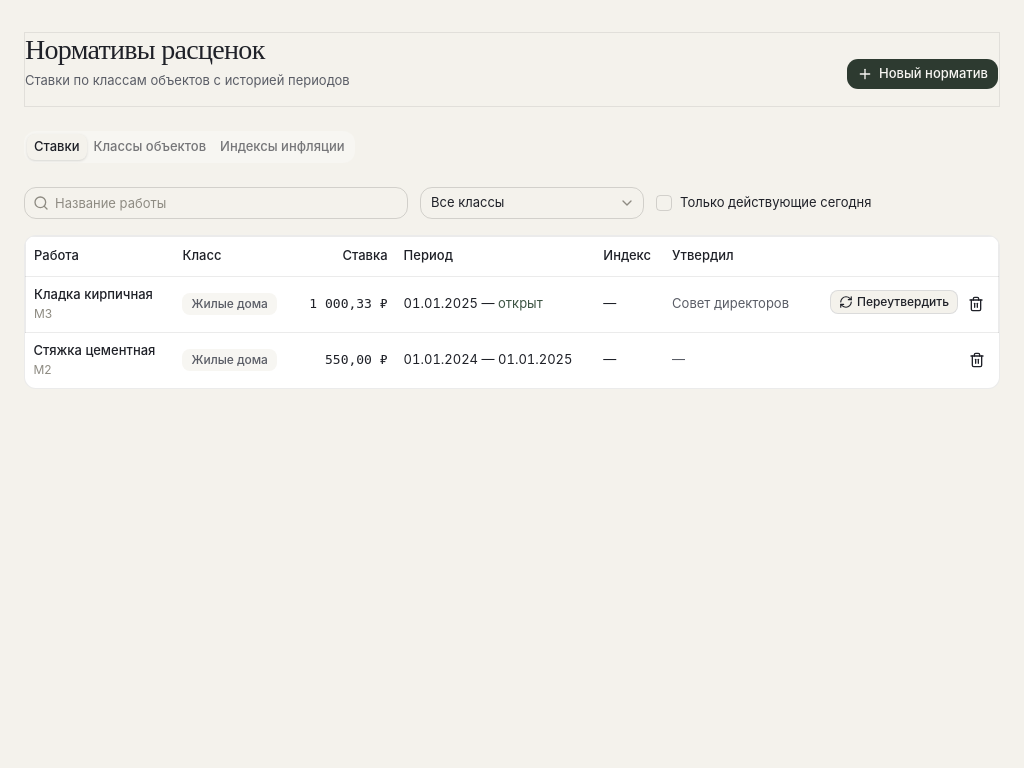
Test: Диалог переутверждения (§4) › переутверждает и сообщает, каким числом закрыт прежний период
The image size is (1024, 768).
Expected: the text "Кладка кирпичная" is shown, [34,285,166,304]
Click the button "Переутвердить".
click(894, 302)  # box [830,290,958,314]
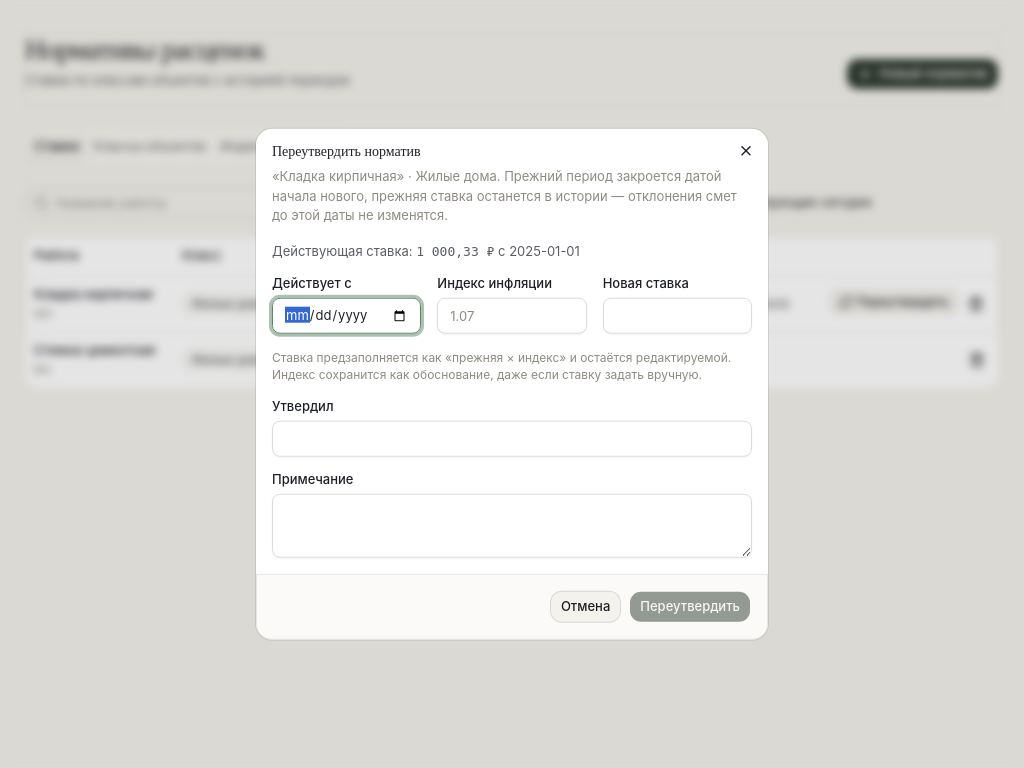
Type "2026-01-01" into the date field labelled "Действует с".
click(347, 316); type("2026-01-01")  # box [272,298,421,334]
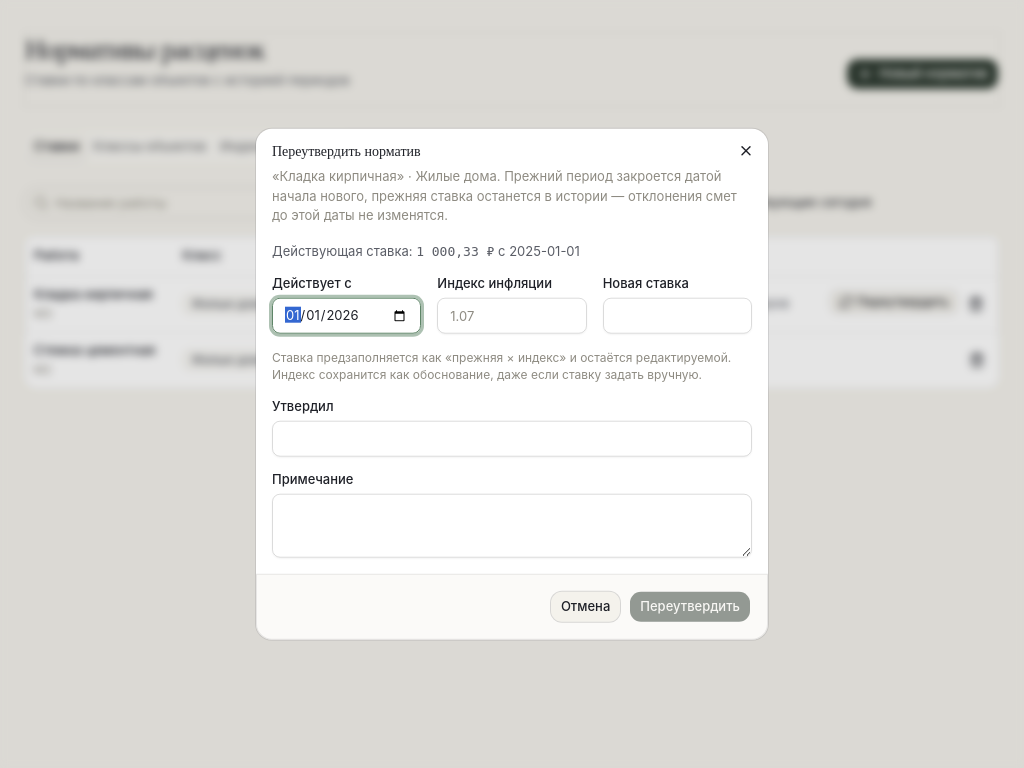
Type "1.075" into the field labelled "Индекс инфляции".
click(512, 316); type("1.075")  # box [437,298,587,334]
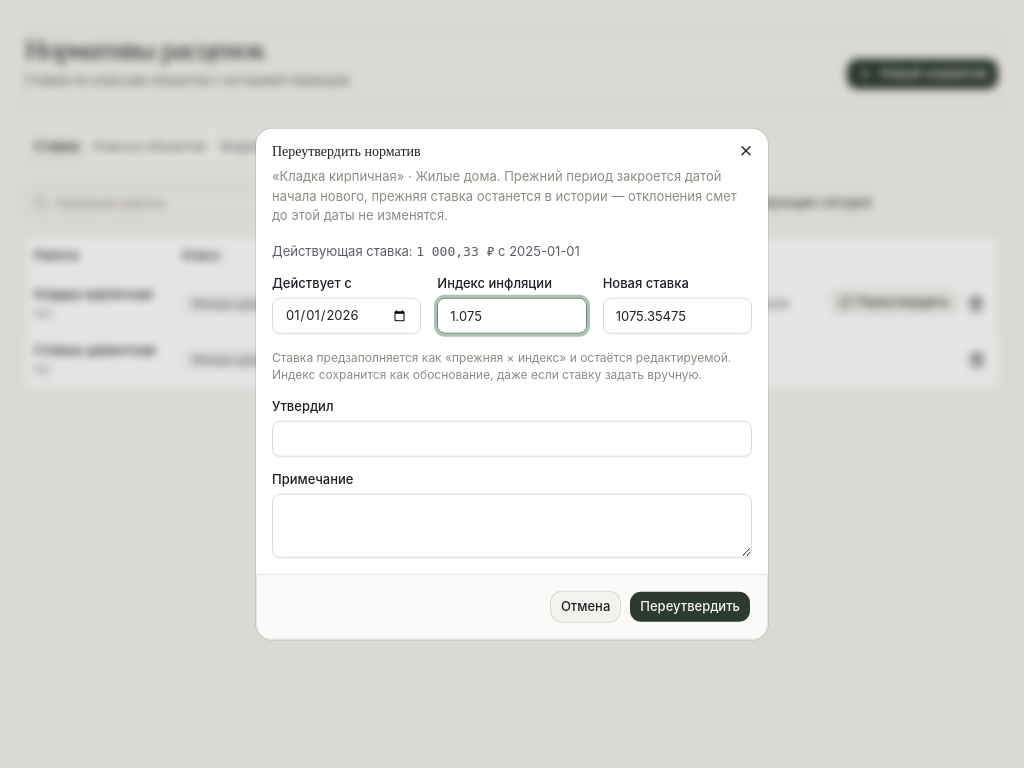
Click the button "Переутвердить".
click(690, 606)  # box [629,590,751,622]
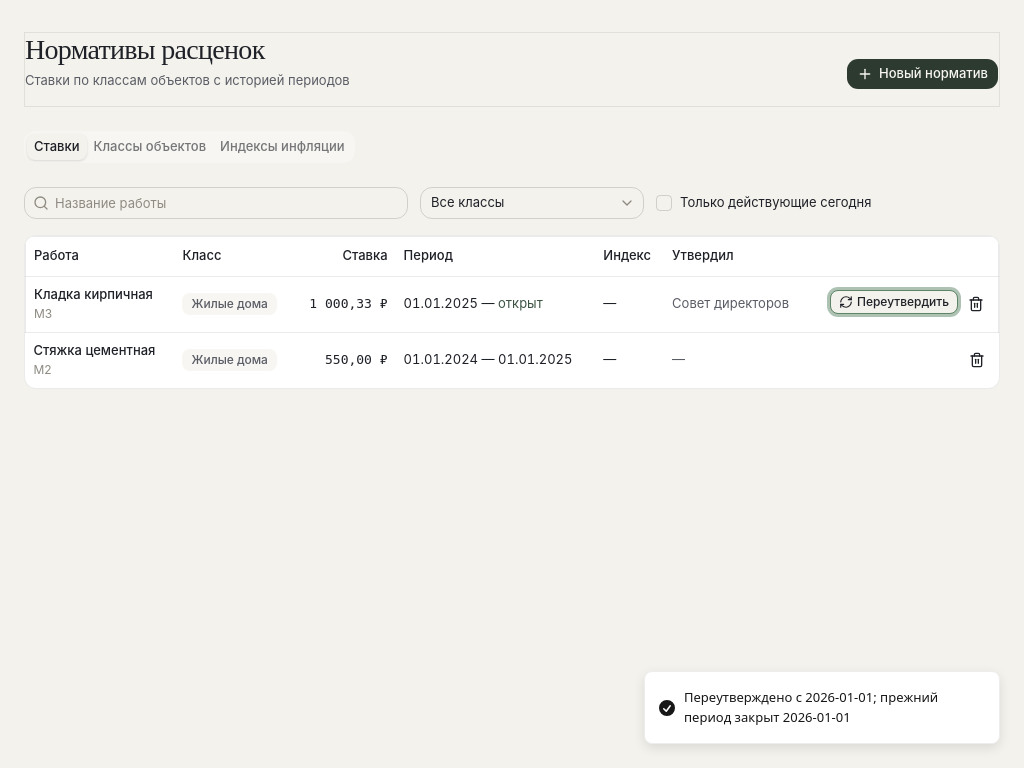
Now the text "прежний период закрыт 2026-01-01" is shown, box [684,688,938,726]
